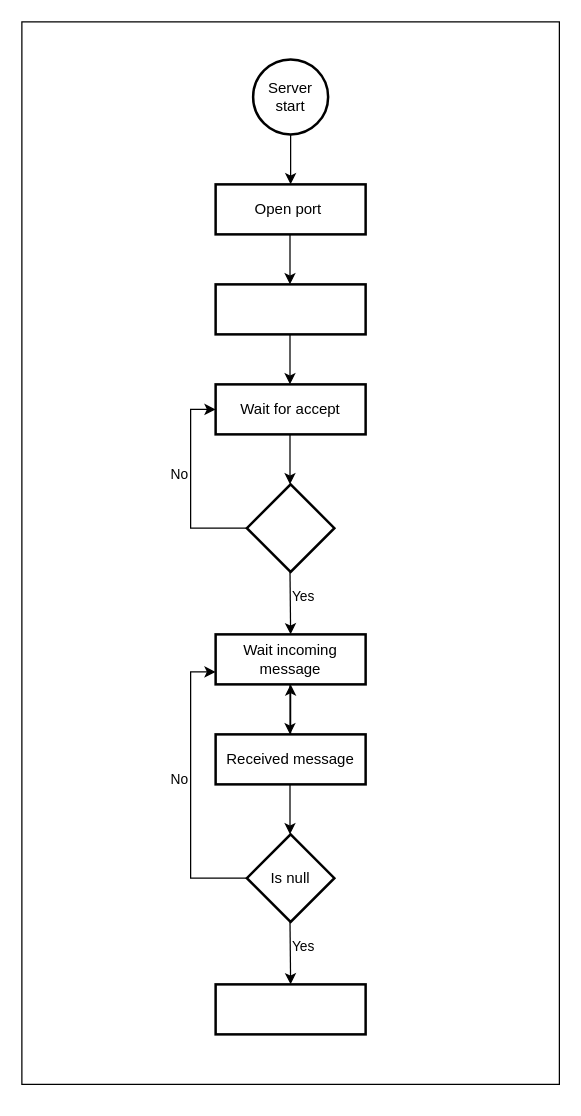
Image size: 581x1116. Some labels were removed from this diagram. The shapes that lost their labels are listed below. From the top down, each one's box as (x1, y1, x2, y2) in pixels, then its label:
(214, 282, 366, 335): Send port to client
(245, 482, 335, 572): Accept
(214, 982, 366, 1035): Deliver message to clients
